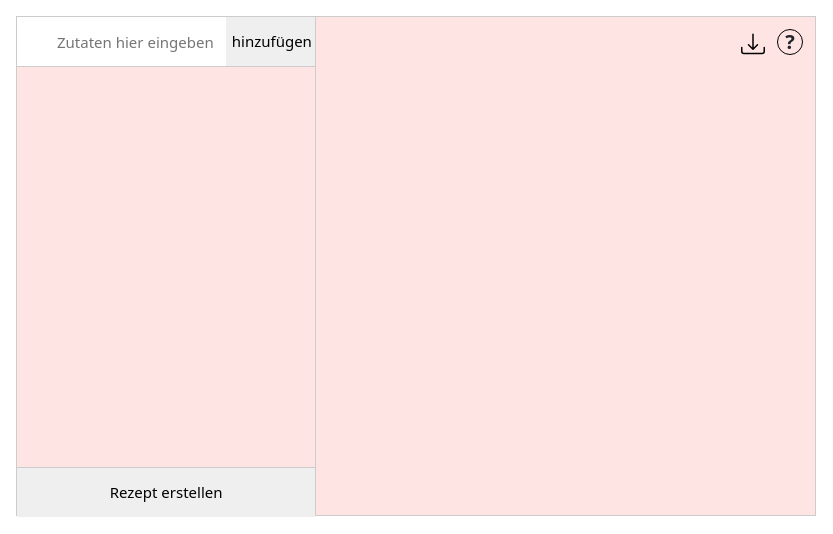
Test: OpenAICall › adds an ingredient when 'hinzufügen' button is clicked
Type "Tomato" into the field with placeholder "Zutaten hier eingeben".
click(121, 42); type("Tomato")  # box [17, 17, 226, 66]
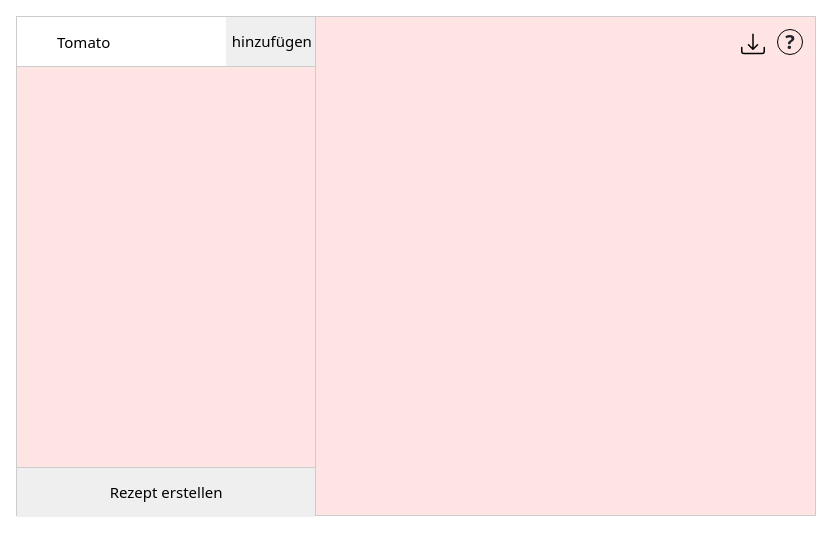
Click the button "hinzufügen".
click(271, 42)  # box [226, 17, 315, 66]
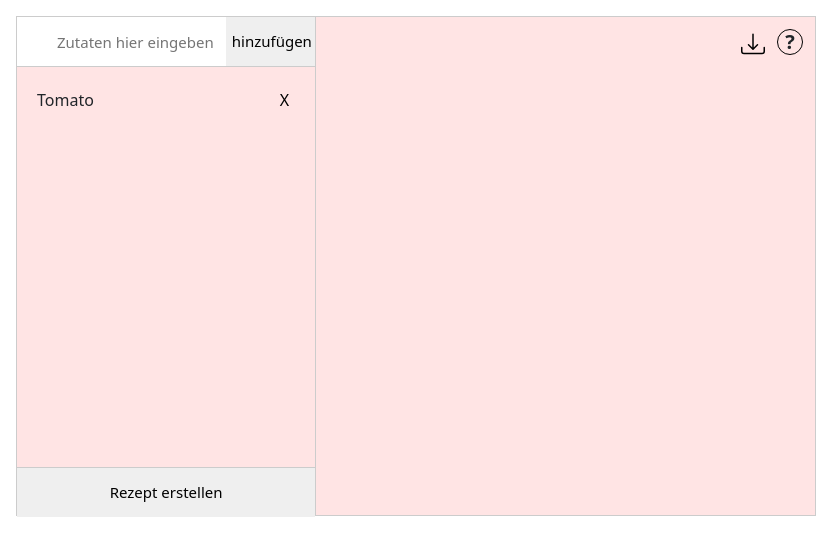
Now the text "Tomato" is shown, box [37, 89, 94, 111]
